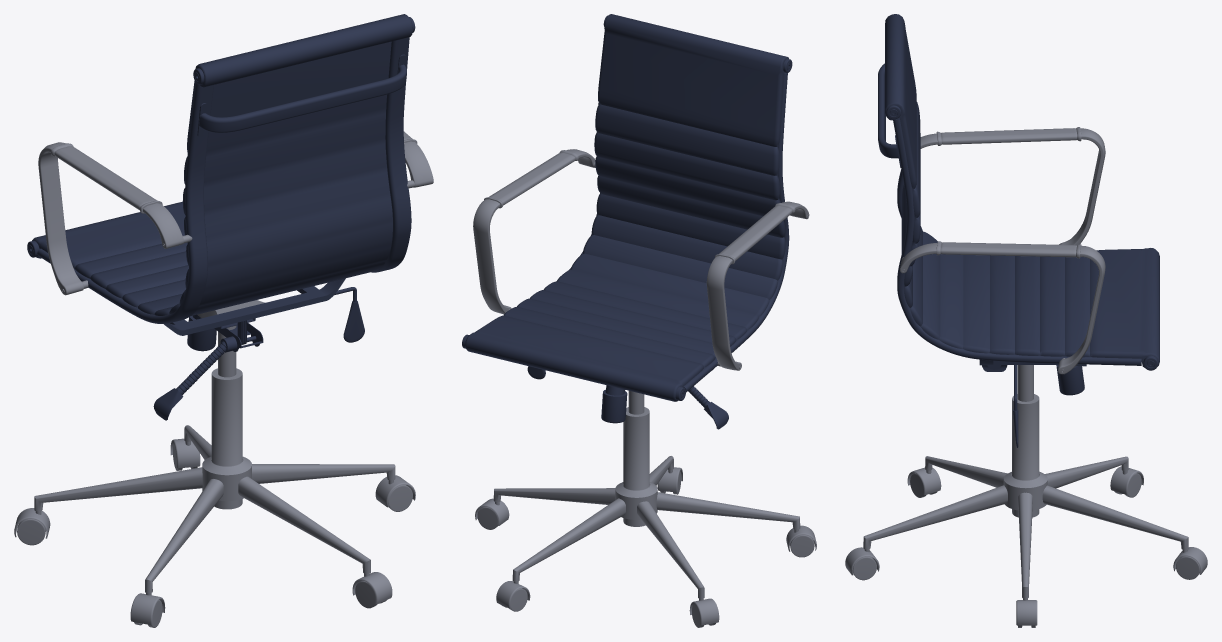
File: chair colored.fbx
3 views of the same model, side by side, from view 1: azimuth 30°, elevation 25°; view 2: azimuth 150°, elevation 25°; view 3: azimuth 270°, elevation 25° (orthographic). The views are drawn at different scales.
Visible parts, largest first — view 1: Chair:leather, Chair:bottom2, Chair:metalicpart, Chair:armrest_left_1, Chair:bottom3, Chair:bottom, Chair:armrest_right_1; view 2: Chair:leather, Chair:bottom2, Chair:armrest_left_1, Chair:armrest_right_1, Chair:metalicpart, Chair:bottom3; view 3: Chair:leather, Chair:bottom2, Chair:metalicpart, Chair:armrest_right_1, Chair:armrest_left_1, Chair:bottom3.
Part boxes in pixels (<box>): Chair:leather: <box>32,14,412,315</box>; Chair:bottom2: <box>14,300,415,627</box>; Chair:metalicpart: <box>27,17,415,323</box>; Chair:armrest_left_1: <box>38,142,192,295</box>; Chair:bottom3: <box>153,287,364,420</box>; Chair:bottom: <box>164,278,345,335</box>; Chair:armrest_right_1: <box>403,131,433,188</box>; Chair:leather: <box>465,14,788,401</box>; Chair:bottom2: <box>475,390,816,627</box>; Chair:armrest_left_1: <box>706,201,809,370</box>; Chair:armrest_right_1: <box>473,149,595,314</box>; Chair:metalicpart: <box>462,15,792,400</box>; Chair:bottom3: <box>527,366,728,429</box>; Chair:leather: <box>885,14,1159,367</box>; Chair:bottom2: <box>845,365,1207,627</box>; Chair:metalicpart: <box>878,63,1158,370</box>; Chair:armrest_right_1: <box>900,241,1105,374</box>; Chair:armrest_left_1: <box>920,127,1105,245</box>; Chair:bottom3: <box>982,365,1084,447</box>.
Size of the model in its own units: 721 by 1145 by 757.
